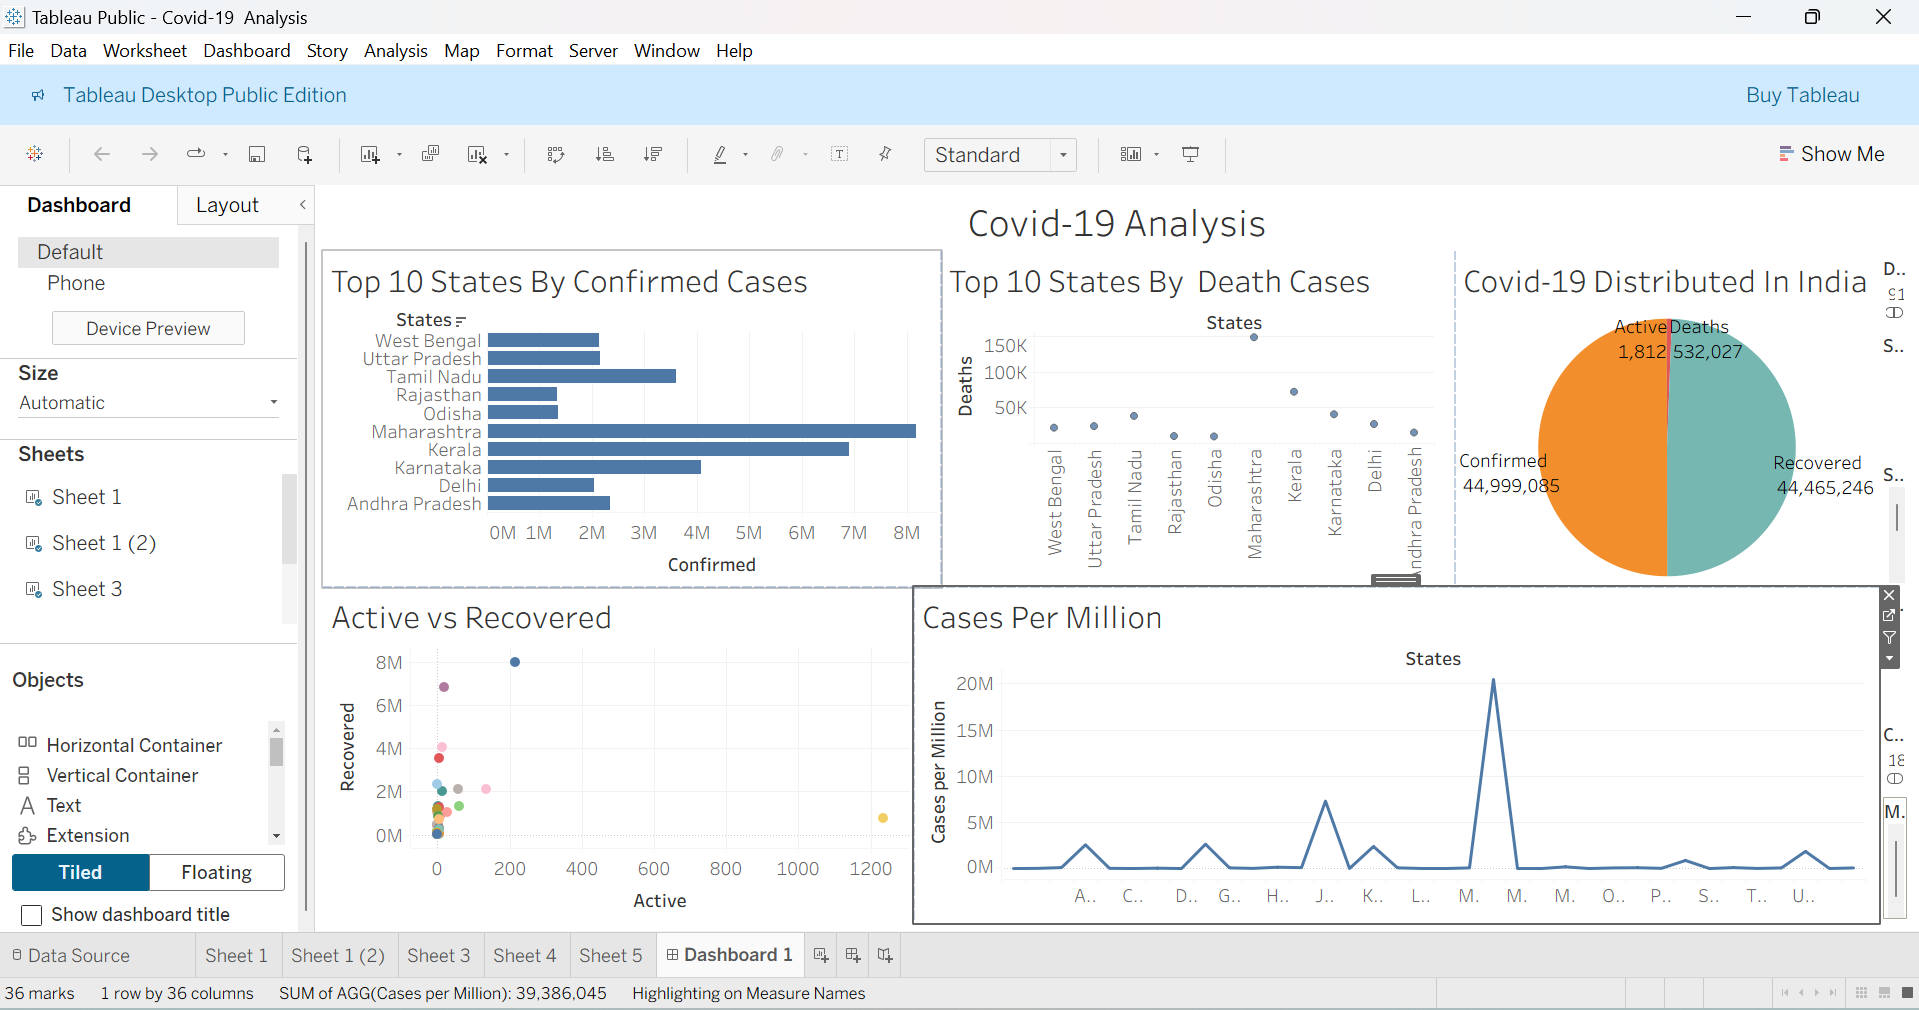

What the dashboard file says about the page in this screenshot:
{"tool":"tableau","page":{"name":"Dashboard 1","canvas":[1000,1000],"units":"permille","ordinal":0},"visuals":[{"type":"title","box":[5,10.7,990,77.7]},{"type":"worksheet","title":"Sheet 1","mark":"Automatic","rows":["F1"],"cols":["Total Cases"],"box":[5,88.5,385.3,450.4]},{"type":"worksheet","title":"Sheet 1 (2)","mark":"Multipolygon","rows":["Deaths"],"cols":["F1"],"box":[390.2,88.5,320.4,450.4]},{"type":"worksheet","title":"Sheet 4","mark":"Pie","box":[710.7,88.5,264.4,450.4]},{"type":"filter","title":"Sheet 1 (2)","param":"[federated.1sq1nmh1ljkupf1es52fg0u6ndqo].[sum:Deaths:qk]","box":[975.1,88.5,19.9,103.2]},{"type":"filter","title":"Sheet 1 (2)","param":"[federated.1sq1nmh1ljkupf1es52fg0u6ndqo].[none:F1:nk]","box":[975.1,191.7,19.9,173.6]},{"type":"legend","title":"Sheet 3","param":"[federated.1sq1nmh1ljkupf1es52fg0u6ndqo].[none:F1:nk]","box":[975.1,365.3,19.9,173.6]},{"type":"worksheet","title":"Sheet 3","mark":"Circle","rows":["Discharged"],"cols":["Active"],"box":[5,538.9,368.4,450.4]},{"type":"worksheet","title":"Sheet 5","mark":"Line","rows":["Calculation_2477789343399938"],"cols":["F1"],"box":[373.4,538.9,601.7,450.4]},{"type":"filter","title":"Sheet 1","param":"[federated.1sq1nmh1ljkupf1es52fg0u6ndqo].[none:F1:nk]","box":[975.1,538.9,19.9,173.6]},{"type":"filter","title":"Sheet 1","param":"[federated.1sq1nmh1ljkupf1es52fg0u6ndqo].[sum:Total Cases:qk]","box":[975.1,712.5,19.9,103.2]},{"type":"legend","title":"Sheet 4","param":"[federated.1sq1nmh1ljkupf1es52fg0u6ndqo].[:Measure Names]","box":[975.1,815.7,19.9,173.6]}]}

Visuals, with their boxes on the dashboard's canvas, which has no fixed pixel size, in thousandths of its width and height (x1, y1, x2, y2). These are canvas units, not pixel positions in the 1919x1010 screenshot, which may show the page scaled, cropped or inside an application window:
title: (x1=5, y1=11, x2=995, y2=88)
"Sheet 1" worksheet: (x1=5, y1=88, x2=390, y2=539)
"Sheet 1 (2)" worksheet (Multipolygon marks): (x1=390, y1=88, x2=711, y2=539)
"Sheet 4" worksheet (Pie marks): (x1=711, y1=88, x2=975, y2=539)
"Sheet 1 (2)" filter: (x1=975, y1=88, x2=995, y2=192)
"Sheet 1 (2)" filter: (x1=975, y1=192, x2=995, y2=365)
"Sheet 3" legend: (x1=975, y1=365, x2=995, y2=539)
"Sheet 3" worksheet (Circle marks): (x1=5, y1=539, x2=373, y2=989)
"Sheet 5" worksheet (Line marks): (x1=373, y1=539, x2=975, y2=989)
"Sheet 1" filter: (x1=975, y1=539, x2=995, y2=712)
"Sheet 1" filter: (x1=975, y1=712, x2=995, y2=816)
"Sheet 4" legend: (x1=975, y1=816, x2=995, y2=989)
